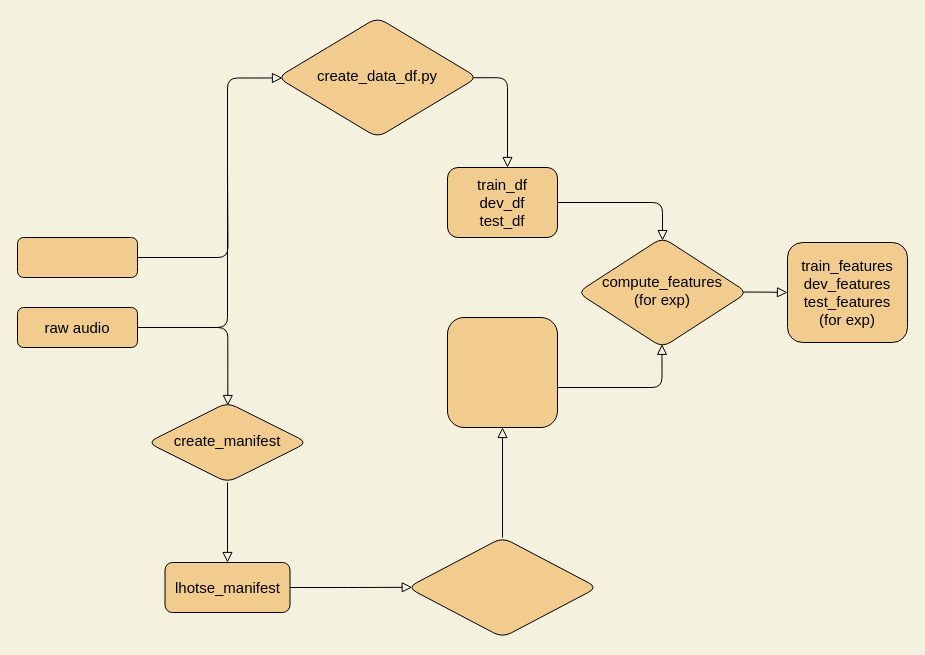
Some shapes in this 925 by 655 pixel diagram are drawn without their labels. The shapes that lost their labels are listed below. From the top down, each one's centre as x and y in pixels, then its label:
At (x=77, y=257): "transcripts".
At (x=502, y=372): "train_features dev_features test_features (for corpus)".
At (x=502, y=587): "compute_features (for corpus)".
